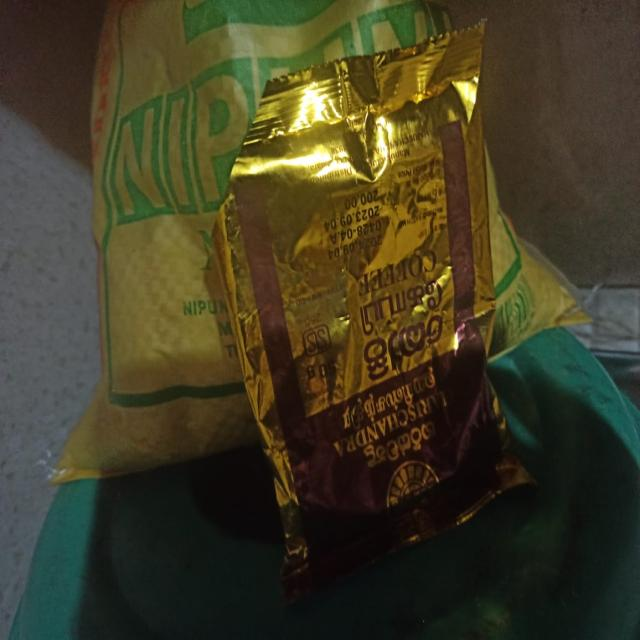Harischandra Coffee: (190, 66, 507, 584)
